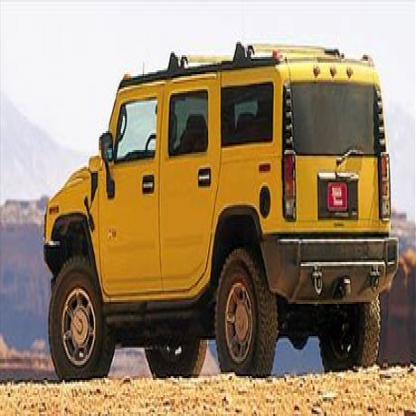Vehicle: (43, 46, 399, 384)
